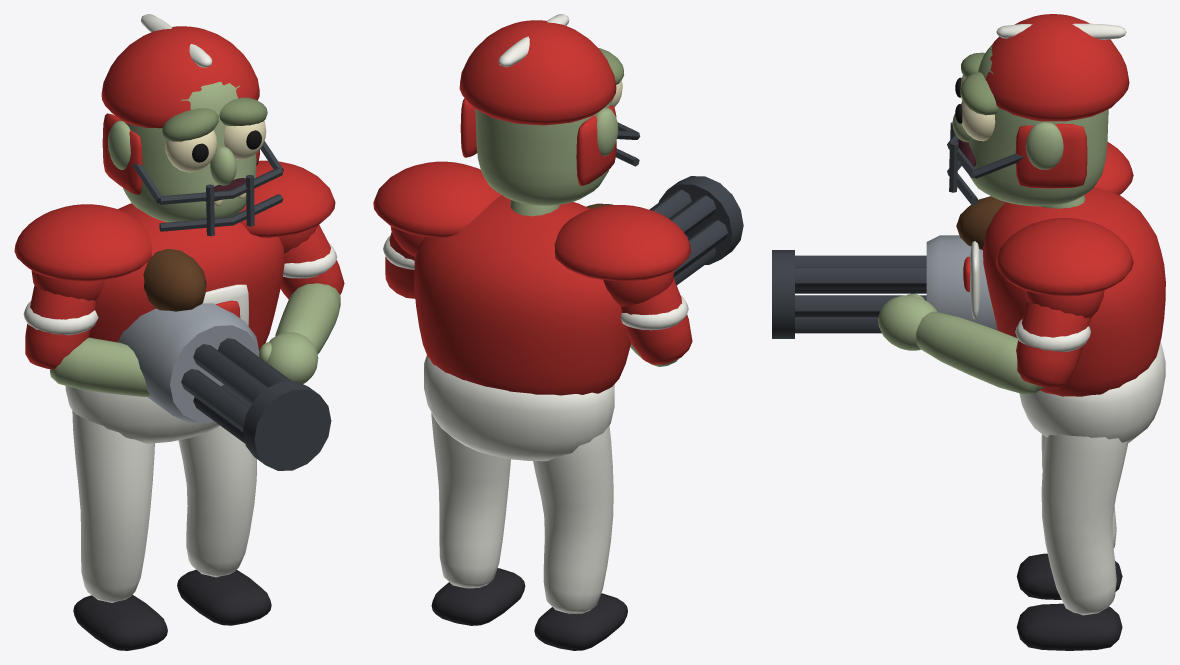
Rendered from all_star.glb.
3 renders of one model, left to right at view 1: azimuth 30°, elevation 25°; view 2: azimuth 150°, elevation 25°; view 3: azimuth 270°, elevation 25°, orthographic.
Visible parts, largest first — view 1: Weapon, Pads, LegR, Head, LegL, Helmet, Torso, ArmR, ArmL, Hips, Facemask; view 2: Torso, Pads, Helmet, LegR, LegL, Hips, Head, Weapon, ArmR, ArmL; view 3: LegL, Weapon, Torso, Helmet, ArmL, Pads, Head, Hips, LegR, Facemask.
Part boxes in pixels (x1=…): Weapon: x1=118, y1=249, x2=331, y2=470; Pads: x1=14, y1=160, x2=337, y2=335; LegR: x1=72, y1=410, x2=167, y2=650; Head: x1=108, y1=82, x2=267, y2=222; LegL: x1=177, y1=426, x2=271, y2=625; Helmet: x1=101, y1=14, x2=259, y2=194; Torso: x1=88, y1=203, x2=284, y2=350; ArmR: x1=25, y1=270, x2=150, y2=396; ArmL: x1=259, y1=225, x2=344, y2=383; Hips: x1=65, y1=386, x2=220, y2=443; Facemask: x1=131, y1=141, x2=283, y2=236; Torso: x1=414, y1=195, x2=631, y2=395; Pads: x1=373, y1=161, x2=691, y2=330; Helmet: x1=459, y1=14, x2=616, y2=185; LegR: x1=533, y1=425, x2=627, y2=650; LegL: x1=431, y1=412, x2=525, y2=625; Hips: x1=424, y1=355, x2=614, y2=461; Head: x1=475, y1=48, x2=623, y2=205; Weapon: x1=586, y1=176, x2=743, y2=284; ArmR: x1=603, y1=270, x2=692, y2=366; ArmL: x1=385, y1=226, x2=424, y2=298; LegL: x1=1016, y1=434, x2=1128, y2=650; Weapon: x1=772, y1=196, x2=1005, y2=338; Torso: x1=982, y1=187, x2=1165, y2=396; Helmet: x1=985, y1=14, x2=1129, y2=188; ArmL: x1=878, y1=290, x2=1104, y2=394; Pads: x1=963, y1=142, x2=1133, y2=351; Head: x1=952, y1=45, x2=1108, y2=206; Hips: x1=1019, y1=341, x2=1165, y2=442; LegR: x1=1016, y1=434, x2=1122, y2=599; Facemask: x1=947, y1=122, x2=1024, y2=205.
Size of the model in its own units: 1.08 by 2.01 by 1.2.
